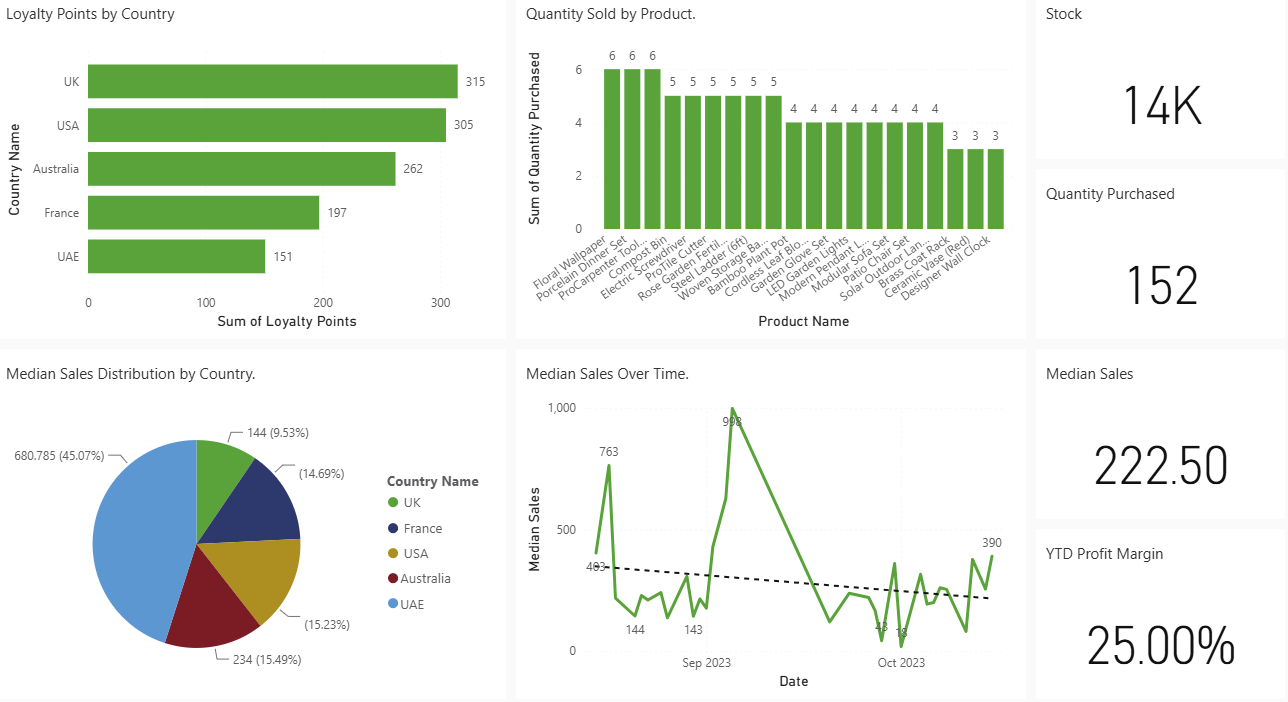

What the dashboard file says about the page in this screenshot:
{"tool":"powerbi","page":{"name":"Sales Overview","canvas":[1280,720],"ordinal":0},"visuals":[{"type":"clusteredBarChart","title":"Loyalty Points by Country","fields":{"Category":["Sales in USD.Country Name"],"Y":["Sum(Sales in USD. Loyalty Points)"]},"box":[0,155.4,506.8,293.1],"z":0},{"type":"clusteredColumnChart","title":"Quantity Sold by Product.","fields":{"Category":["Sales in USD.Product Name"],"Y":["Sum(Sales in USD.Quantity Purchased)"]},"box":[516.5,155.4,568.4,273.6],"z":1000},{"type":"pieChart","title":"Median Sales Distribution by Country.","fields":{"Category":["Sales in USD.Country Name"],"Y":["Sales in USD.Median Sales"]},"box":[0,455,506.8,265.6],"z":2000},{"type":"lineChart","title":"Median Sales Over Time.","fields":{"Category":["CalendarTable.Date"],"Y":["Sales in USD.Median Sales"]},"box":[516.5,448.5,563.5,270.4],"z":3000},{"type":"card","title":"Stock","fields":{"Values":["Sum(Sales in USD. Stock  )"]},"box":[0,14.6,255.8,140.9],"z":4000},{"type":"card","title":"Quantity Purchased","fields":{"Values":["Sum(Sales in USD.Quantity Purchased)"]},"box":[225.1,4.9,254.2,155.4],"z":5000},{"type":"card","title":"Median Sales","fields":{"Values":["Sales in USD.Median Sales"]},"box":[516.5,0,249.4,155.4],"z":6000},{"type":"slicer","fields":{"Values":["Sales in USD.Country Name"]},"box":[761,8.1,319,155.4],"z":7000}]}

Visuals, with their boxes on the page's 1280x720 design canvas (x1, y1, x2, y2). These are canvas units, not pixel positions in the 1288x702 screenshot, which may show the page scaled, cropped or inside an application window:
"Loyalty Points by Country" clusteredBarChart: region(0, 155, 507, 448)
"Quantity Sold by Product." clusteredColumnChart: region(516, 155, 1085, 429)
"Median Sales Distribution by Country." pieChart: region(0, 455, 507, 721)
"Median Sales Over Time." lineChart: region(516, 448, 1080, 719)
"Stock" card: region(0, 15, 256, 156)
"Quantity Purchased" card: region(225, 5, 479, 160)
"Median Sales" card: region(516, 0, 766, 155)
slicer - Sales in USD.Country Name: region(761, 8, 1080, 164)
